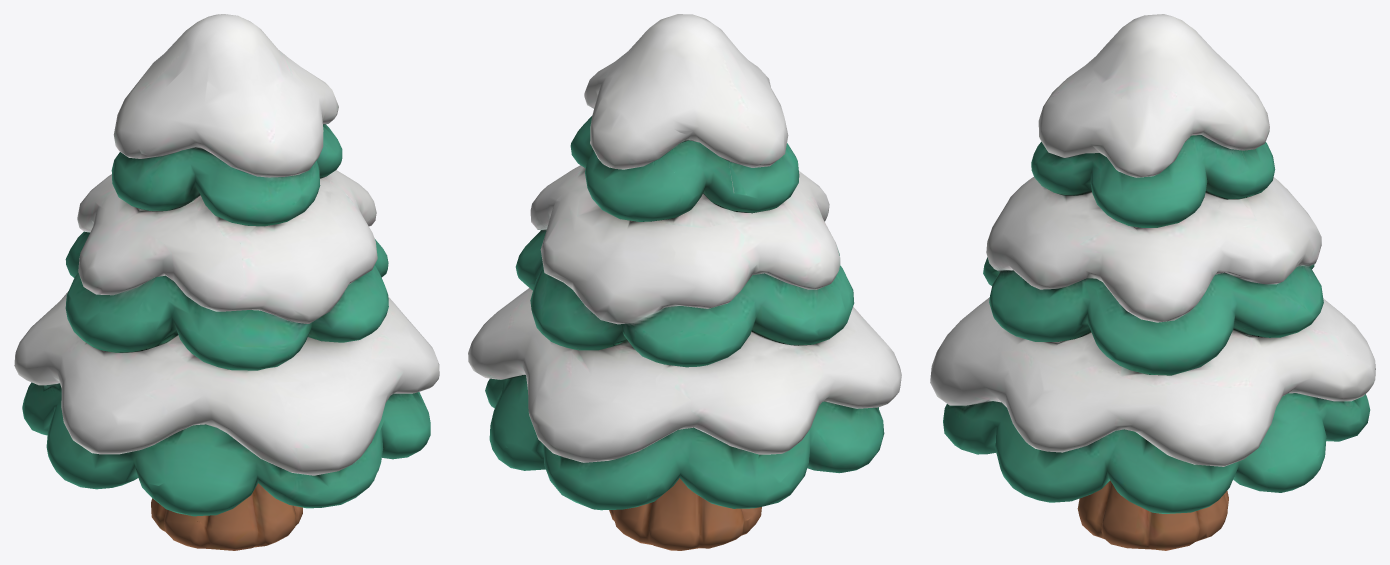
Rendered from prop_pine.glb.
The picture shows the model from 3 angles, left to right: view 1: azimuth 30°, elevation 25°; view 2: azimuth 150°, elevation 25°; view 3: azimuth 270°, elevation 25°; orthographic projection.
Parts seen in each view (by area): view 1: tripo_node_09ebd466-4e41-4b05-9a03-c2d0a6be2586; view 2: tripo_node_09ebd466-4e41-4b05-9a03-c2d0a6be2586; view 3: tripo_node_09ebd466-4e41-4b05-9a03-c2d0a6be2586.
Boxes of the visible parts, x1,y1,x2,y2 form: tripo_node_09ebd466-4e41-4b05-9a03-c2d0a6be2586: (14, 14, 439, 550); tripo_node_09ebd466-4e41-4b05-9a03-c2d0a6be2586: (468, 14, 901, 550); tripo_node_09ebd466-4e41-4b05-9a03-c2d0a6be2586: (930, 14, 1375, 550).
Bounding box in the file's own units: 0.7482 × 1 × 0.797.
1 material, 1 textured.
